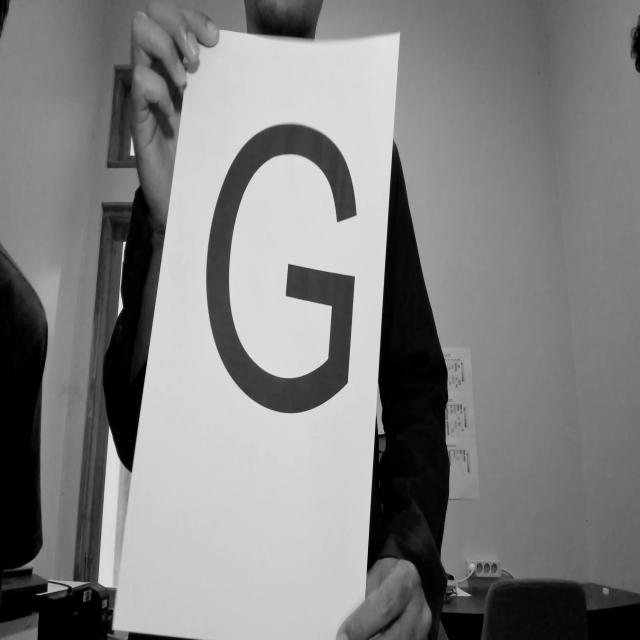g: (197, 116, 368, 428)
